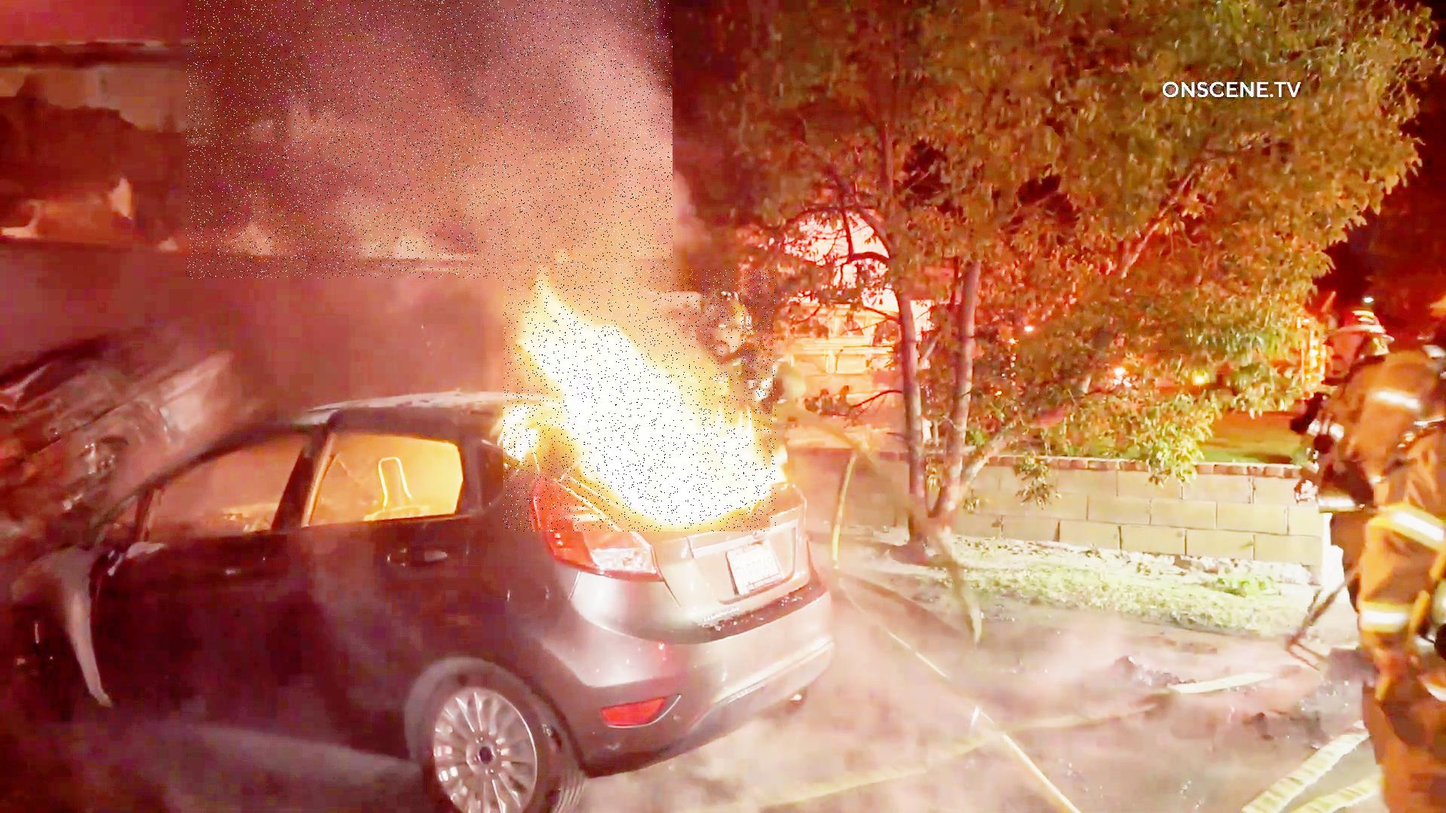fire: (504, 270, 776, 532)
smoke: (186, 0, 673, 279)
